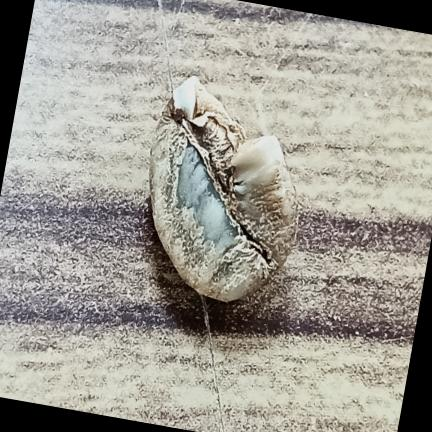broken: (149, 77, 297, 301)
